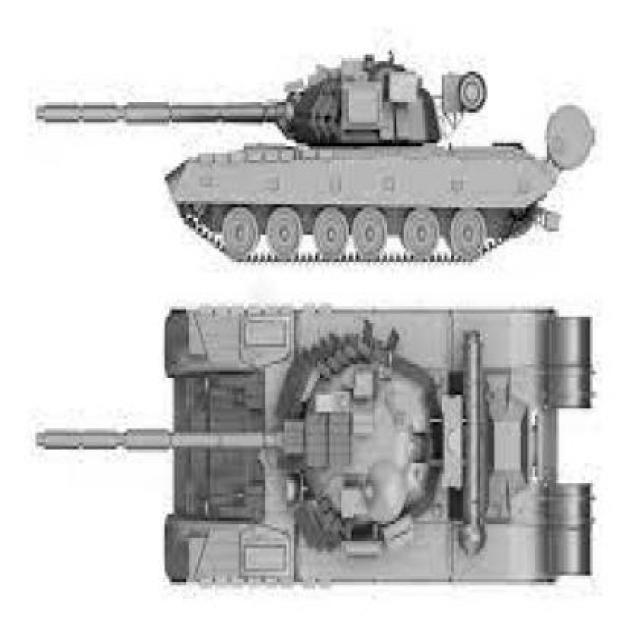Tanks: (34, 299, 595, 592), (34, 48, 598, 266)
